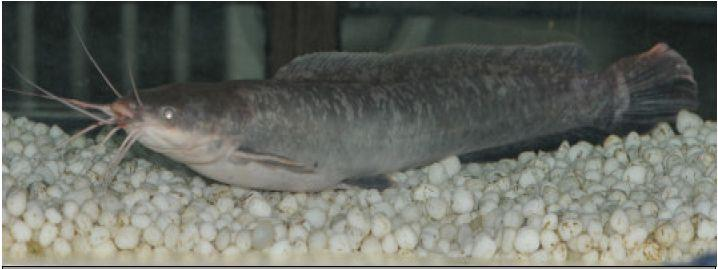Catfish: (79, 45, 705, 192)
